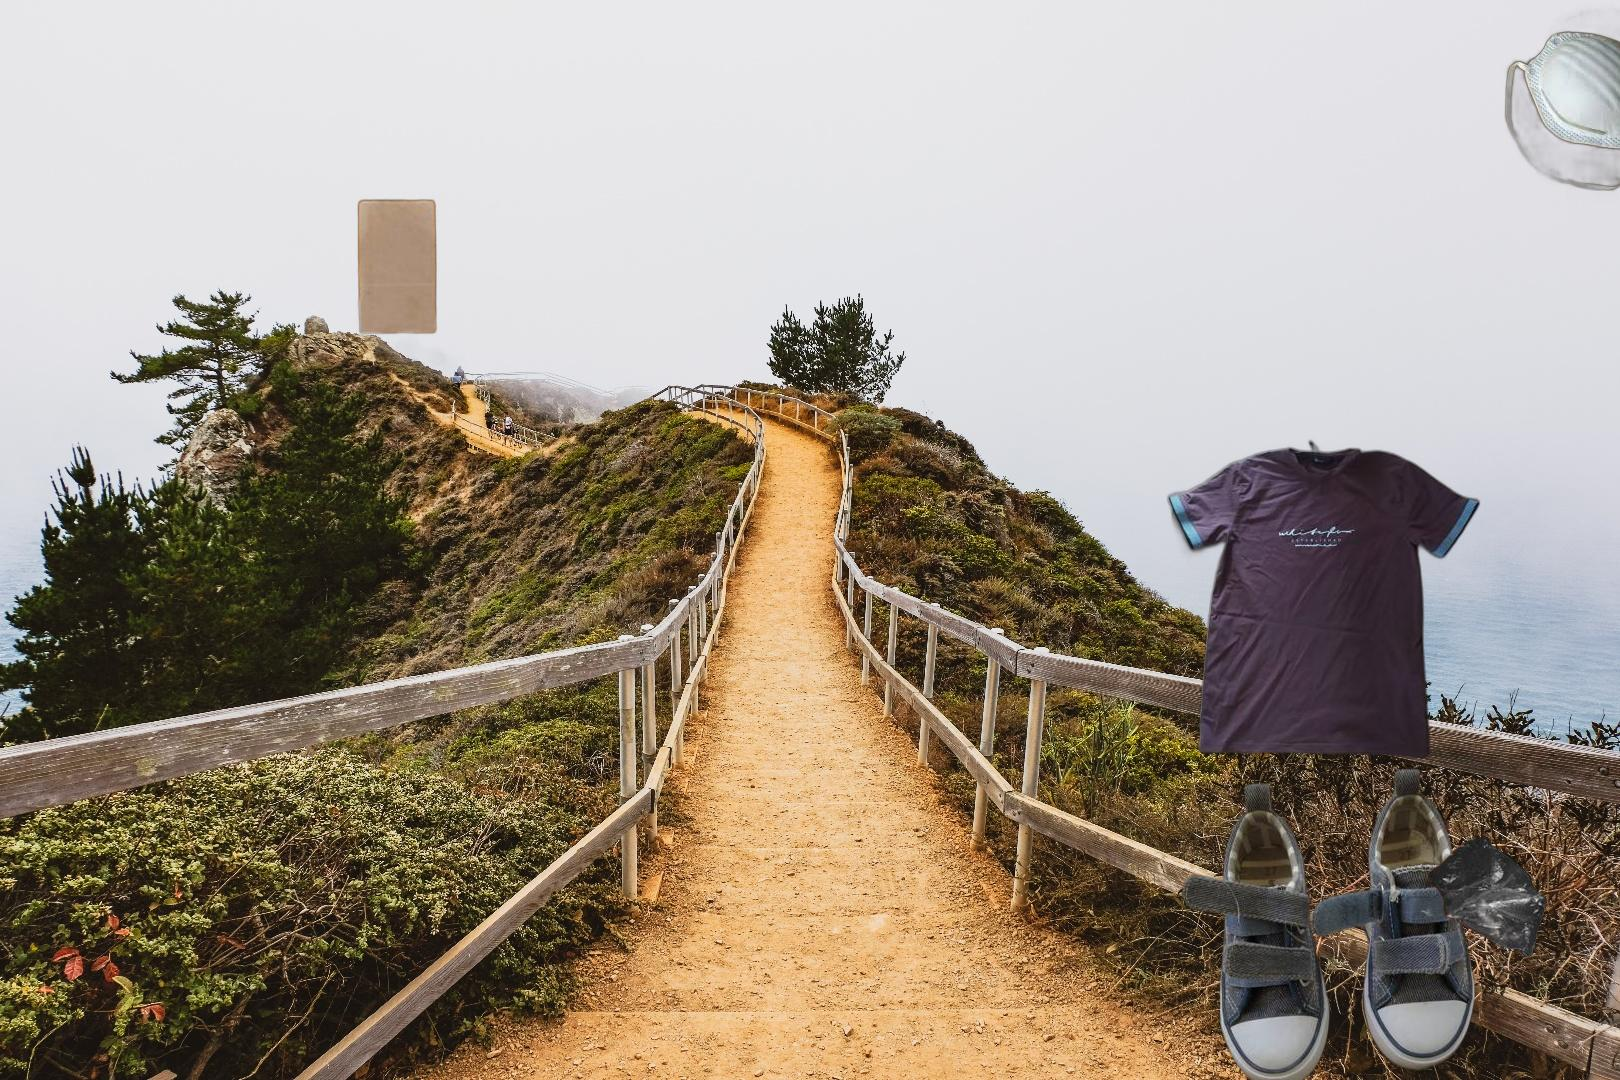clothes: (1164, 436, 1483, 763)
paper-bag: (323, 196, 560, 468)
plastic-bag: (1426, 834, 1549, 959)
shoes: (1178, 664, 1479, 1080)
trash: (1499, 1, 1620, 204)
